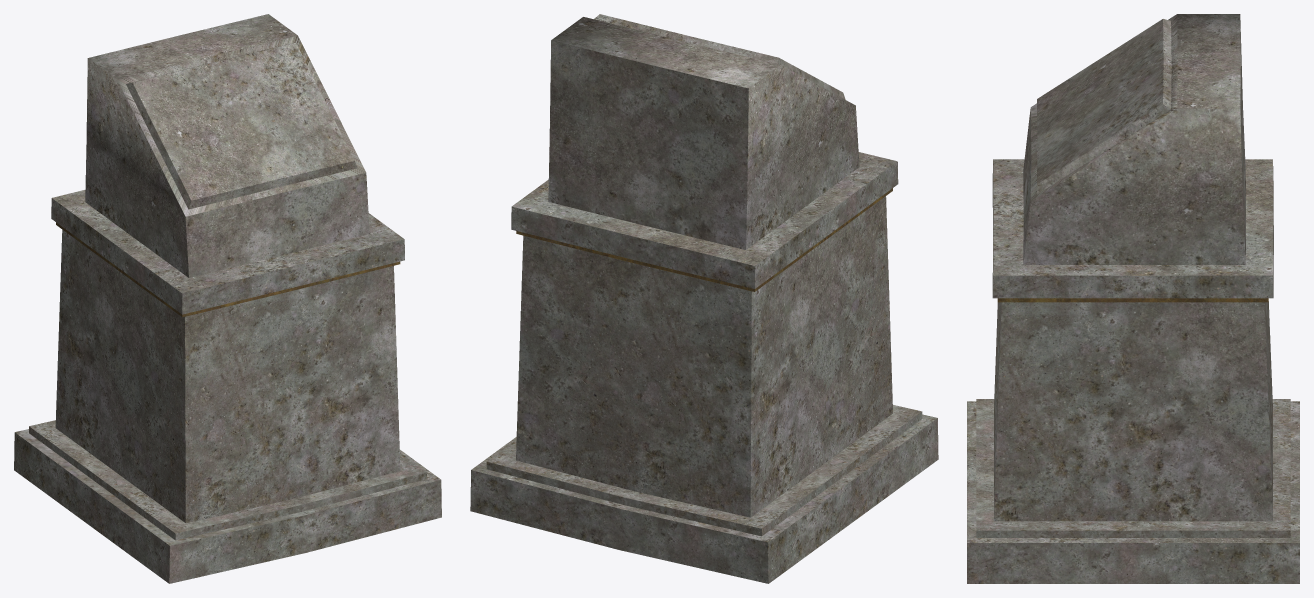
3 renders of one model, left to right at view 1: azimuth 30°, elevation 25°; view 2: azimuth 150°, elevation 25°; view 3: azimuth 270°, elevation 25°, orthographic. The views are drawn at different scales.
Parts seen in each view (by area): view 1: mg_12_object_0; view 2: mg_12_object_0; view 3: mg_12_object_0.
Boxes of the visible parts, x1,y1,x2,y2 form: mg_12_object_0: [14, 14, 441, 583]; mg_12_object_0: [470, 14, 938, 583]; mg_12_object_0: [967, 14, 1299, 583].
Bounding box in the file's own units: 69.02 × 102 × 68.14.
